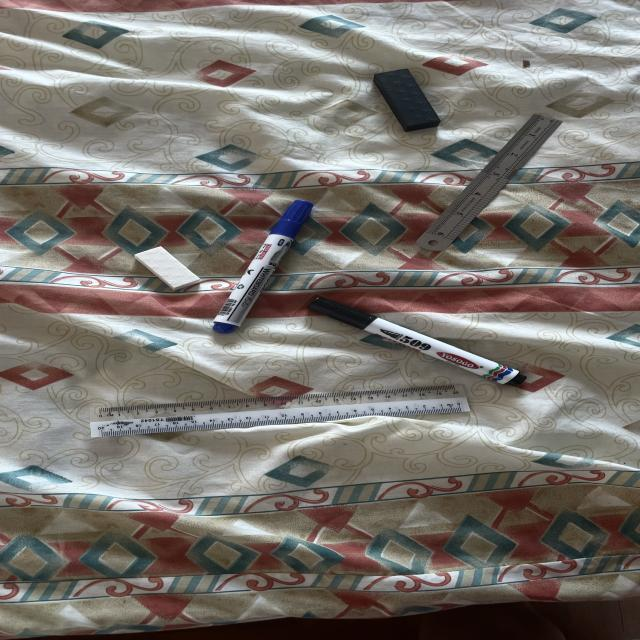eraser: (374, 69, 440, 131), (134, 247, 200, 291)
marker: (309, 297, 525, 385), (213, 200, 313, 333), (160, 268, 161, 268)
ruler: (417, 114, 562, 250), (91, 385, 470, 437)
